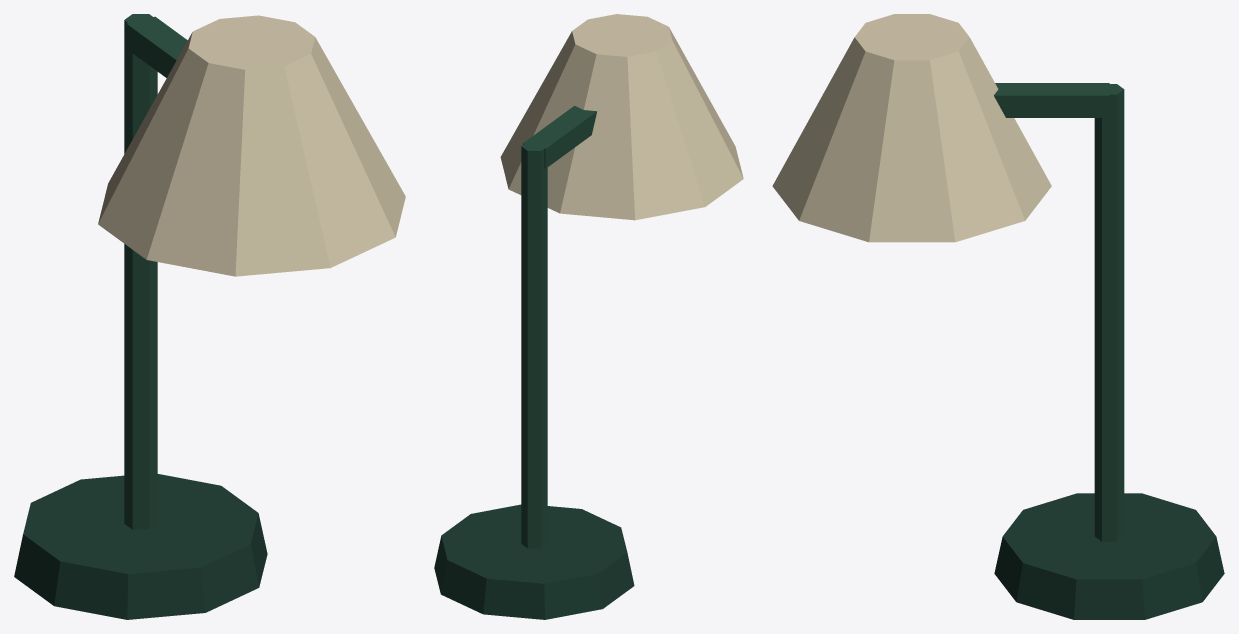
File: desk-lamp.glb
3 views of the same model, side by side, from view 1: azimuth 30°, elevation 25°; view 2: azimuth 150°, elevation 25°; view 3: azimuth 270°, elevation 25° (orthographic). The views are drawn at different scales.
Visible parts, largest first — view 1: desk-lamp; view 2: desk-lamp; view 3: desk-lamp.
Part boxes in pixels (bbox=[...]): desk-lamp: bbox=[14, 14, 405, 619]; desk-lamp: bbox=[434, 14, 743, 619]; desk-lamp: bbox=[772, 14, 1224, 619].
Size of the model in its own units: 0.1617 by 0.36 by 0.275.
